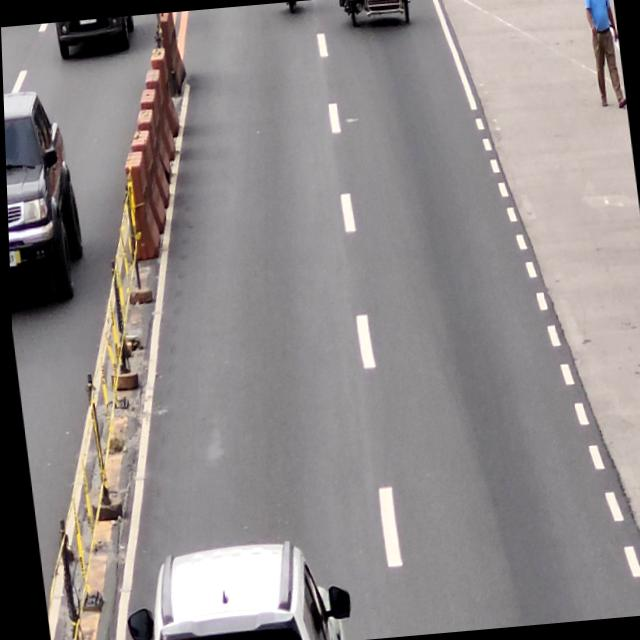Car: (116, 535, 349, 640)
Tricycle: (340, 0, 411, 30)
